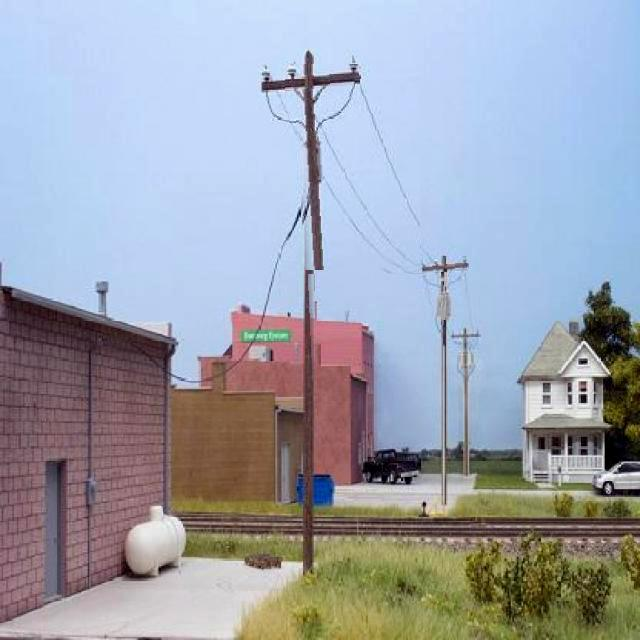crossarm: (262, 64, 359, 91), (421, 256, 469, 273)
pole: (304, 54, 315, 495), (441, 257, 447, 392)
transformer: (436, 288, 452, 322)
wire: (276, 92, 421, 274), (294, 90, 420, 267), (356, 79, 429, 258)
